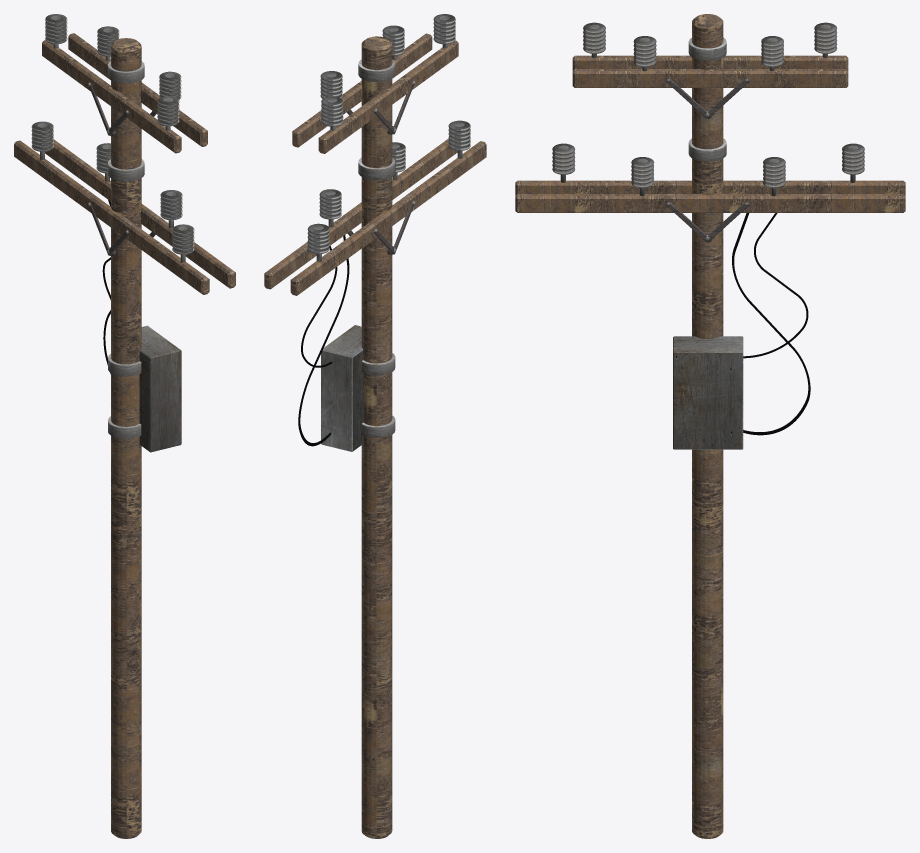
File: pole.fbx
3 renders of one model, left to right at view 1: azimuth 30°, elevation 25°; view 2: azimuth 150°, elevation 25°; view 3: azimuth 270°, elevation 25°, orthographic. The views are drawn at different scales.
Visible parts, largest first — view 1: Electric_Pole__2; view 2: Electric_Pole__2; view 3: Electric_Pole__2.
Part boxes in pixels (bbox=[...]): Electric_Pole__2: bbox=[14, 14, 235, 838]; Electric_Pole__2: bbox=[264, 14, 486, 838]; Electric_Pole__2: bbox=[515, 14, 905, 838].
Size of the model in its own units: 0.4201 by 5.17 by 2.25.
